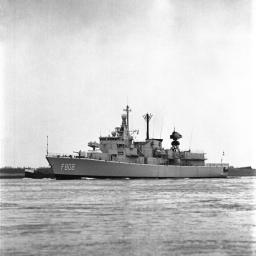Fragata: (43, 101, 233, 185)
